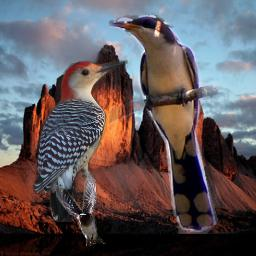Cuckoo: (109, 15, 218, 234)
Swallow: (55, 172, 106, 246)
Woodpecker: (33, 60, 128, 222)
